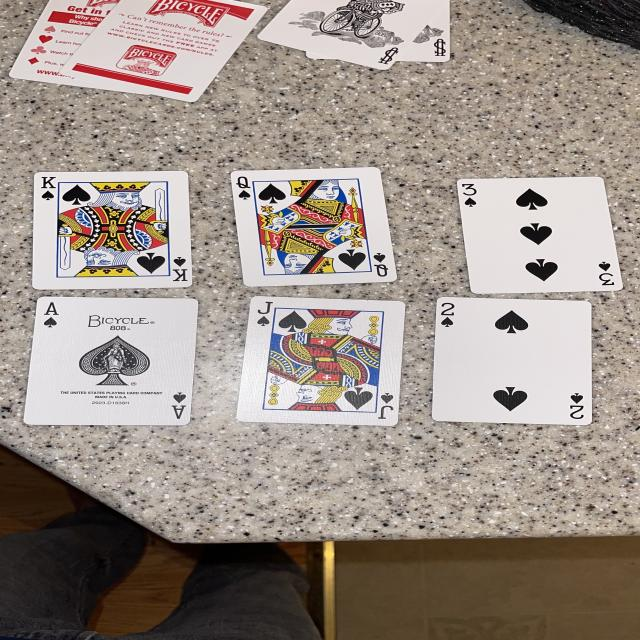2 of spades: (433, 298, 591, 425)
3 of spades: (458, 176, 622, 294)
Ace of spades: (24, 298, 198, 425)
Jack of spades: (238, 296, 404, 426)
Joker: (258, 0, 440, 70), (398, 0, 451, 62)
King of spades: (31, 171, 191, 290)
Queen of spades: (231, 168, 396, 286)
